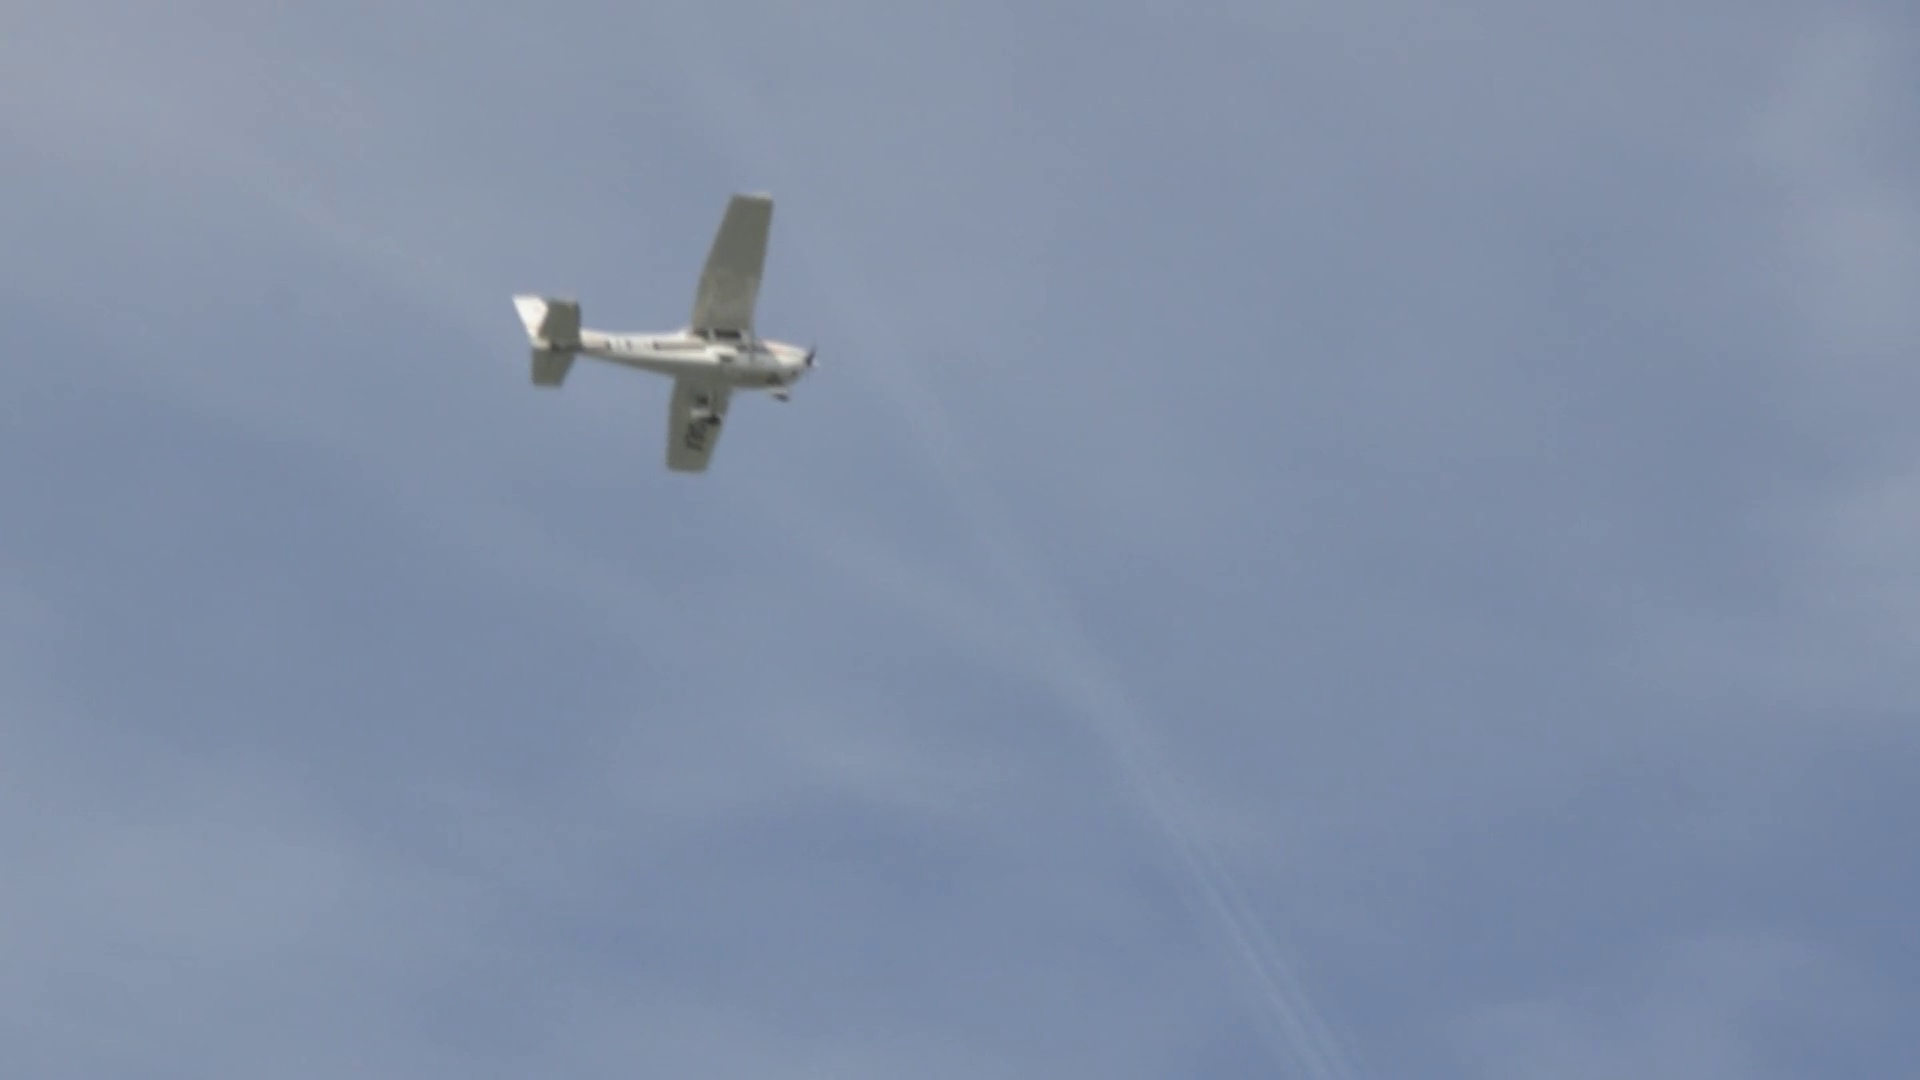plane: (512, 190, 822, 472)
